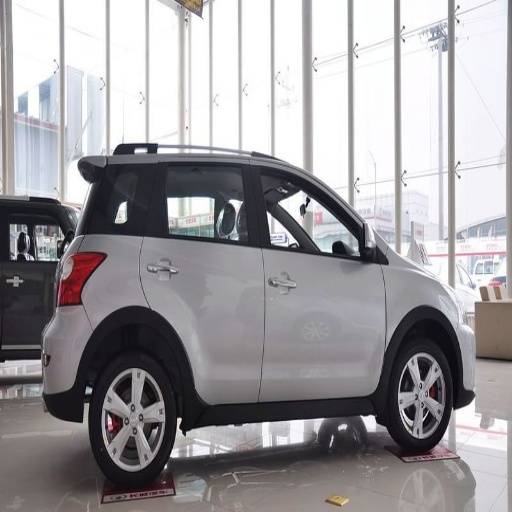back_bumper: (41, 305, 92, 390)
back_right_door: (139, 161, 264, 402)
